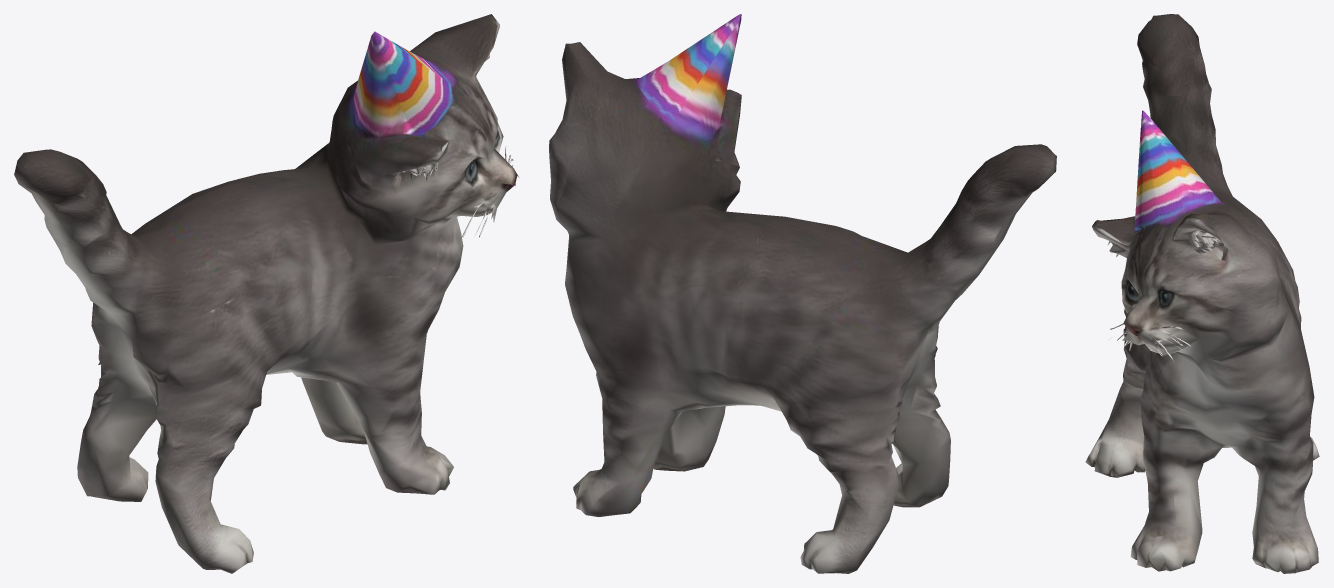
Rendered from UPDATECAT-lo.glb.
The picture shows the model from 3 angles, left to right: view 1: azimuth 30°, elevation 25°; view 2: azimuth 150°, elevation 25°; view 3: azimuth 270°, elevation 25°; orthographic projection. The views are drawn at different scales.
Visible parts, largest first — view 1: tripo_node_9ebf4b14-0554-429b-a1f8-3eeb8d68efc9; view 2: tripo_node_9ebf4b14-0554-429b-a1f8-3eeb8d68efc9; view 3: tripo_node_9ebf4b14-0554-429b-a1f8-3eeb8d68efc9.
Part boxes in pixels (x1,y1,x2,y2): tripo_node_9ebf4b14-0554-429b-a1f8-3eeb8d68efc9: [14, 14, 519, 573]; tripo_node_9ebf4b14-0554-429b-a1f8-3eeb8d68efc9: [549, 14, 1056, 573]; tripo_node_9ebf4b14-0554-429b-a1f8-3eeb8d68efc9: [1085, 14, 1319, 573].
Bounding box in the file's own units: 1.1 × 1 × 0.4916.
Materials: 1 (1 with a texture image).
